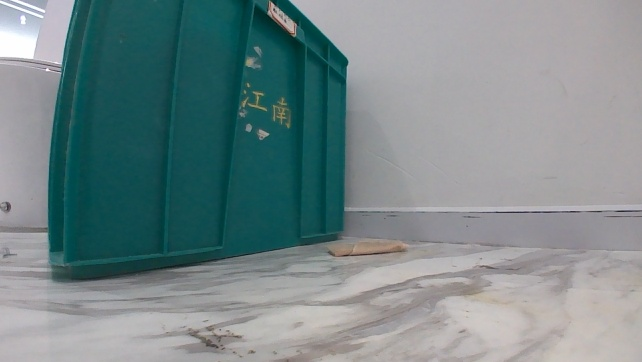socks: (325, 235, 410, 260)
toilet: (0, 55, 67, 233)
